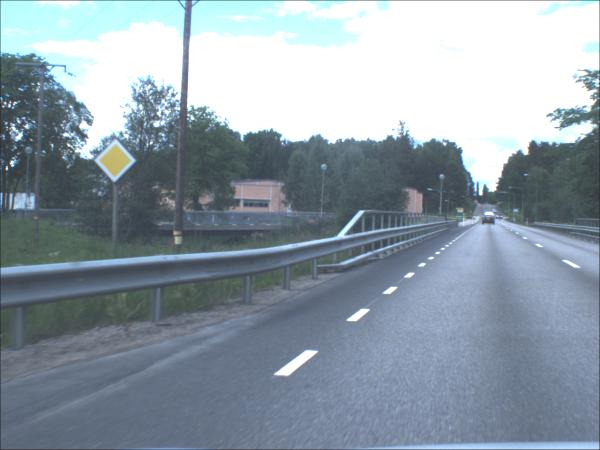PRIORITY_ROAD: (95, 138, 139, 185)
